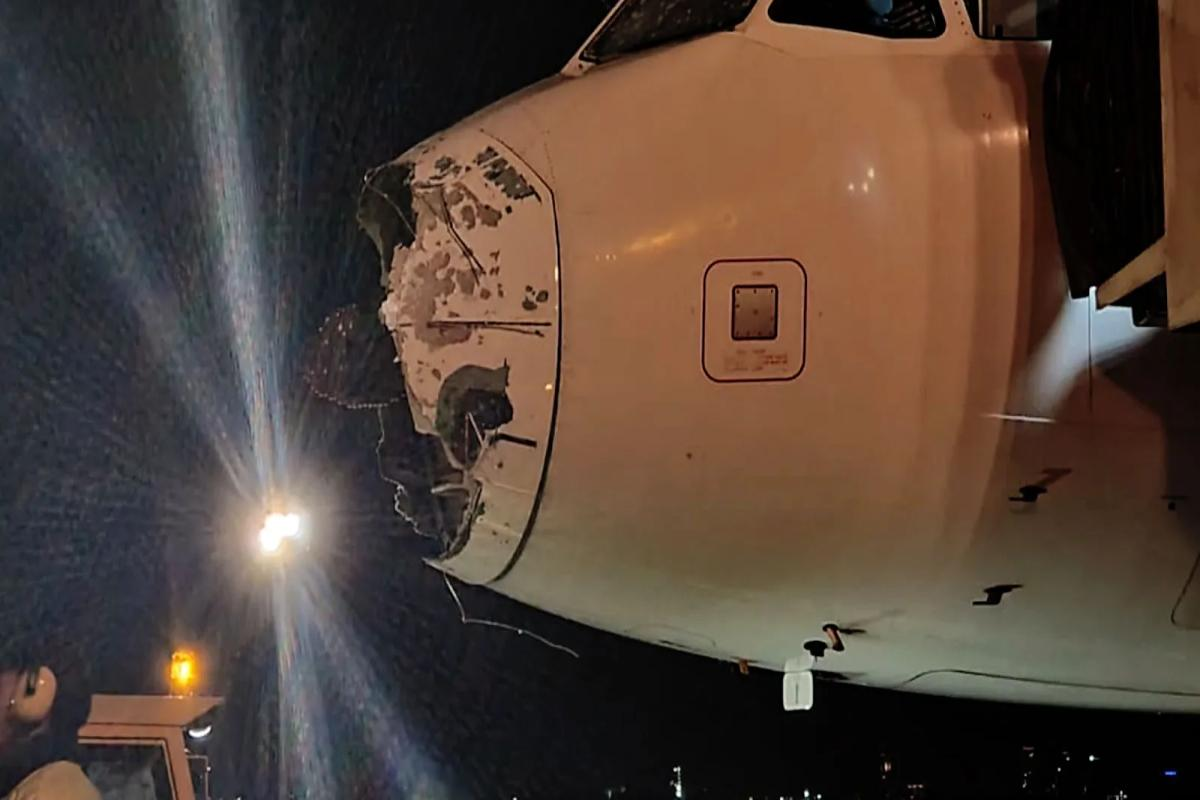Fuselage_damage: (301, 127, 552, 588), (468, 116, 570, 594)
